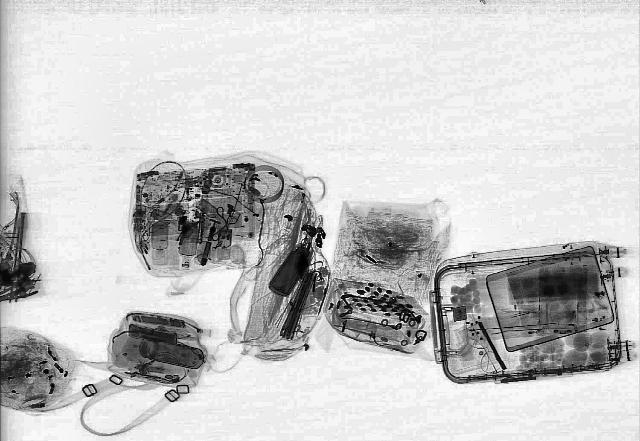Pliers: (0, 276, 50, 302)
